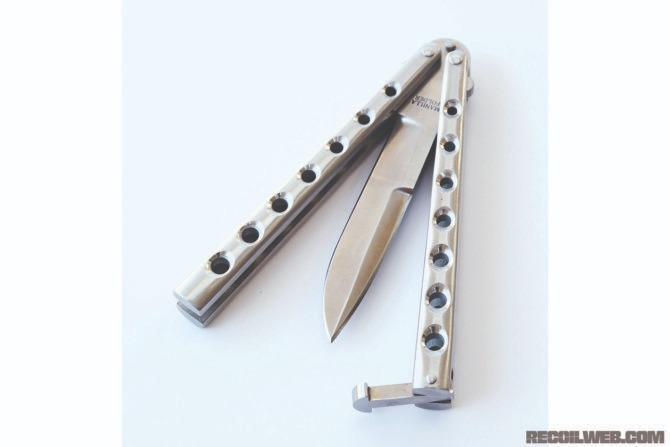knife: (164, 31, 476, 415)
